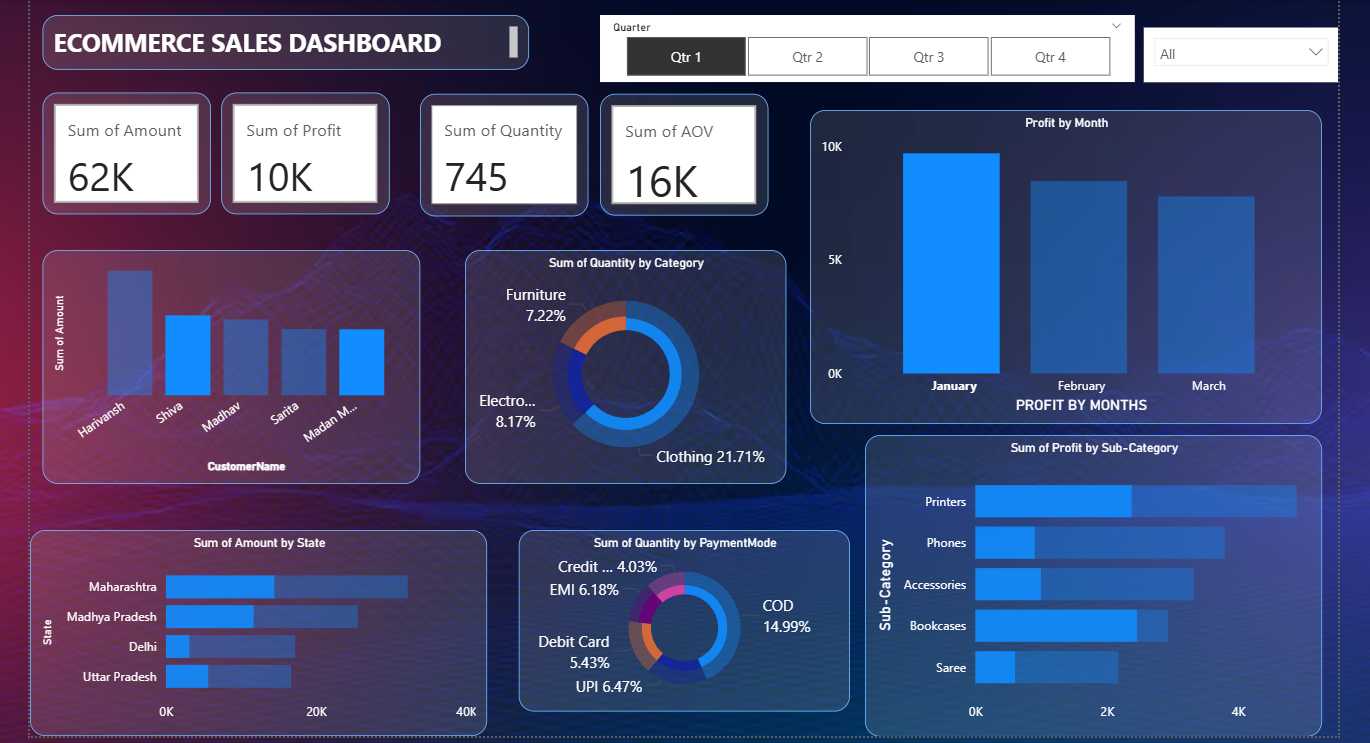

What the dashboard file says about the page in this screenshot:
{"tool":"powerbi","page":{"name":"Page 1","canvas":[1280,720],"ordinal":0},"visuals":[{"type":"textbox","box":[12.3,15.1,476.2,53.5],"z":0},{"type":"columnChart","title":"Profit by Month","fields":{"Category":["Orders.Order Date.Variation.Date Hierarchy.Month"],"Y":["Details.Profit"]},"box":[763,107,500.9,307.4],"z":1000},{"type":"barChart","fields":{"Category":["Details.Sub-Category"],"Y":["Details.Profit"]},"box":[816.5,425.4,447.3,295],"z":2000},{"type":"donutChart","fields":{"Category":["Details.Category"],"Y":["Details.Quantity"]},"box":[425.5,244.6,314.3,228.7],"z":3000},{"type":"donutChart","fields":{"Y":["Details.Quantity"],"Category":["Details.PaymentMode"]},"box":[478.1,518.5,324.1,177.3],"z":4000},{"type":"cardVisual","fields":{"Data":["Details.Amount"]},"box":[12.3,90.6,164.7,119.4],"z":5000},{"type":"cardVisual","fields":{"Data":["Details.Profit"]},"box":[186.6,90.6,164.7,119.4],"z":6000},{"type":"cardVisual","fields":{"Data":["Details.Quantity"]},"box":[381.5,91.7,165.1,119.8],"z":7000},{"type":"cardVisual","fields":{"Data":["Details.AOV"]},"box":[557.1,91.9,164.7,119.4],"z":8000},{"type":"barChart","fields":{"Category":["Orders.State"],"Y":["Details.Amount"]},"box":[0,518.5,447.6,201.8],"z":9000},{"type":"columnChart","fields":{"Category":["Orders.CustomerName"],"Y":["Details.Amount"]},"box":[12.2,244.6,369.3,228.7],"z":10000},{"type":"slicer","fields":{"Values":["Orders.Order Date.Variation.Date Hierarchy.Quarter"]},"box":[557.1,15.1,522.8,65.9],"z":11000},{"type":"slicer","fields":{"Values":["Orders.State"]},"box":[1089.5,27.4,190.7,53.5],"z":12000}]}

Visuals, with their boxes in screenshot pixels (x1, y1, x2, y2):
textbox: l=48, t=12, r=532, b=66
"Profit by Month" columnChart: l=811, t=105, r=1320, b=418
barChart - Details.Sub-Category x Details.Profit: l=866, t=429, r=1320, b=729
donutChart - Details.Category x Details.Quantity: l=468, t=245, r=788, b=478
donutChart - Details.Quantity x Details.PaymentMode: l=522, t=523, r=851, b=704
cardVisual - Details.Amount: l=48, t=89, r=216, b=210
cardVisual - Details.Profit: l=225, t=89, r=393, b=210
cardVisual - Details.Quantity: l=423, t=90, r=591, b=211
cardVisual - Details.AOV: l=602, t=90, r=769, b=211
barChart - Orders.State x Details.Amount: l=36, t=523, r=491, b=729
columnChart - Orders.CustomerName x Details.Amount: l=48, t=245, r=423, b=478
slicer - Orders.Order Date.Variation.Date Hierarchy.Quarter: l=602, t=12, r=1133, b=79
slicer - Orders.State: l=1143, t=24, r=1337, b=79
